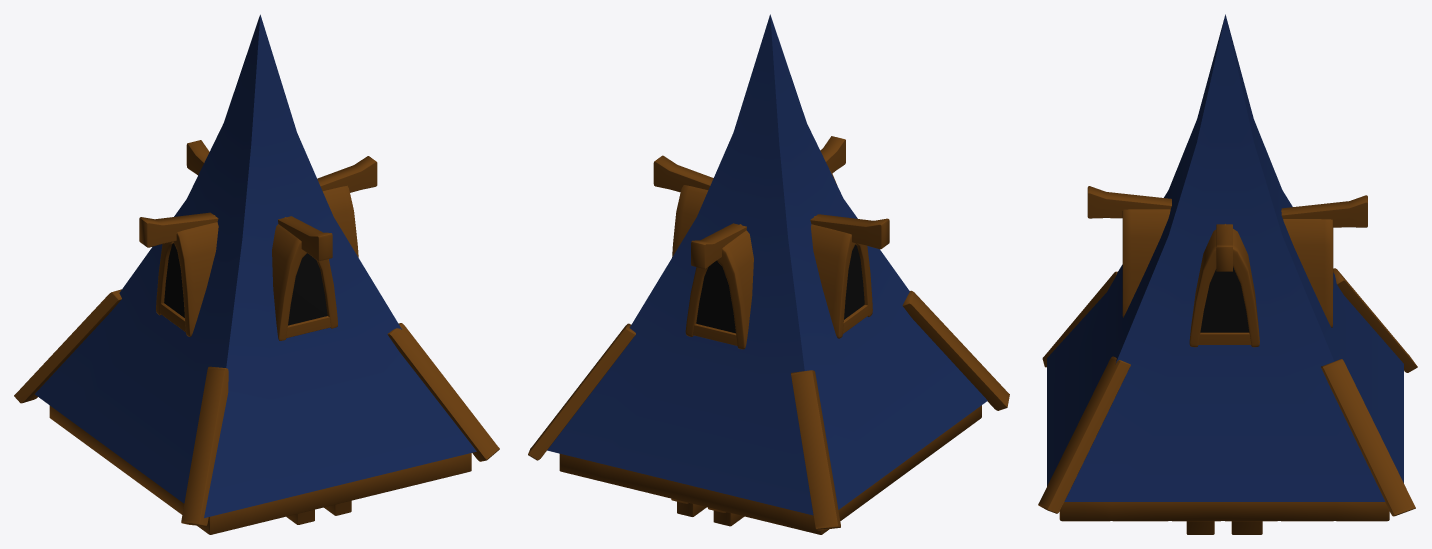
The model's file is MainTowerRoof.fbx.
The picture shows the model from 3 angles, left to right: view 1: azimuth 30°, elevation 25°; view 2: azimuth 150°, elevation 25°; view 3: azimuth 270°, elevation 25°; orthographic projection. The views are drawn at different scales.
Parts seen in each view (by area): view 1: MaintowerRoof; view 2: MaintowerRoof; view 3: MaintowerRoof.
Boxes of the visible parts, left/top/right/bottom form: MaintowerRoof: left=14, top=14, right=499, bottom=534; MaintowerRoof: left=528, top=14, right=1009, bottom=534; MaintowerRoof: left=1038, top=14, right=1417, bottom=534.
Bounding box in the file's own units: 753 × 1046 × 766.
